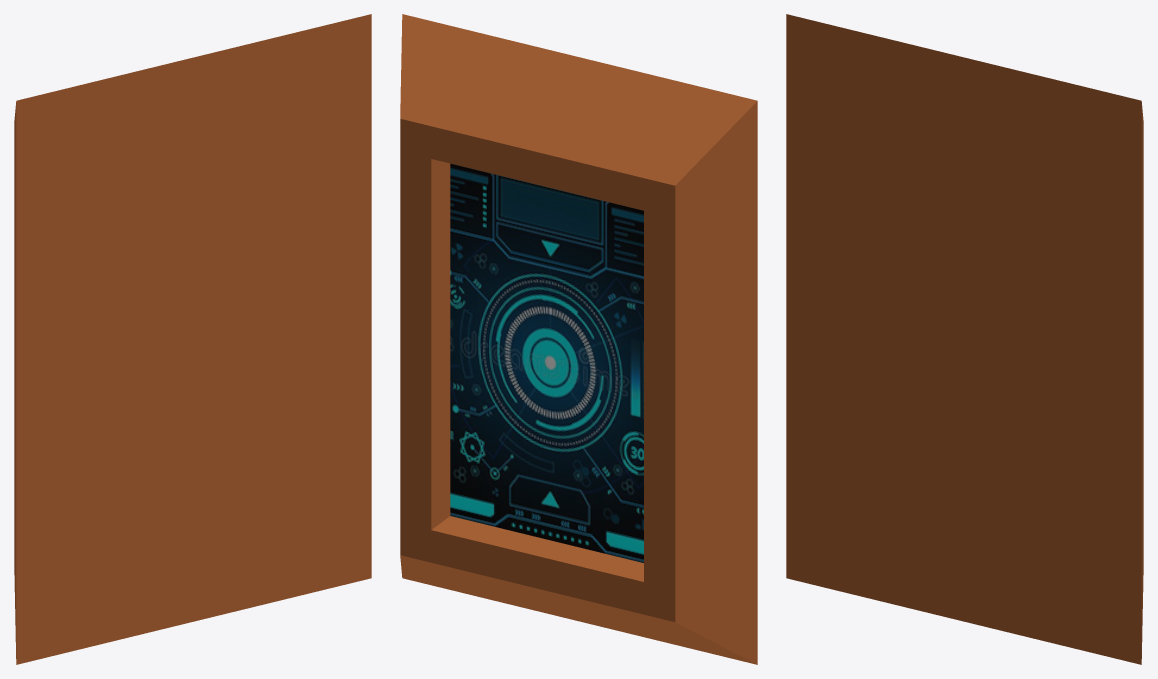
File: controlPanel.fbx
3 renders of one model, left to right at view 1: azimuth 30°, elevation 25°; view 2: azimuth 150°, elevation 25°; view 3: azimuth 330°, elevation 25°, orthographic.
Visible parts, largest first — view 1: ControlPanel; view 2: ControlPanel; view 3: ControlPanel.
Boxes of the visible parts, bbox=[...] form: ControlPanel: bbox=[14, 14, 371, 664]; ControlPanel: bbox=[400, 14, 757, 664]; ControlPanel: bbox=[786, 14, 1143, 664].
Bounding box in the file's own units: 65.94 × 100 × 13.6.
